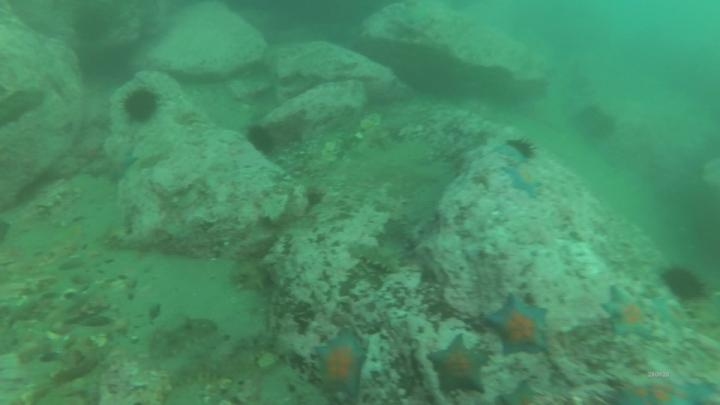echinus: (667, 268, 702, 300), (126, 93, 157, 120), (248, 128, 274, 155)
holothurian: (172, 360, 242, 386), (348, 241, 400, 272)
starfish: (480, 295, 547, 355), (428, 336, 487, 396), (316, 338, 363, 398), (605, 289, 652, 338), (506, 163, 544, 197), (108, 156, 138, 180)
